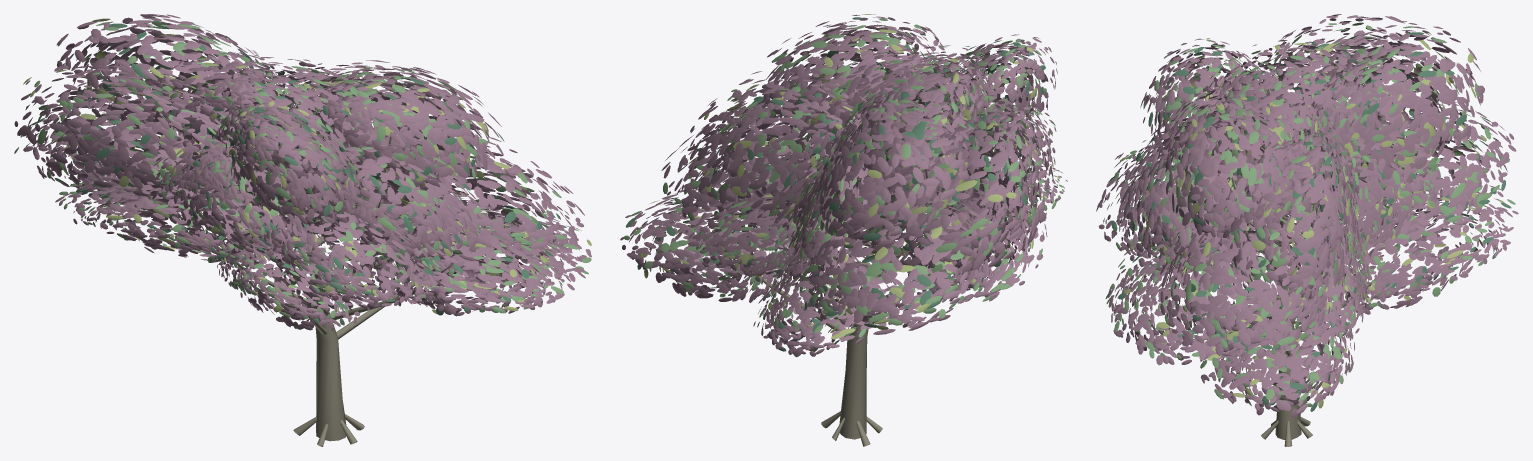
The model's file is grove_2.glb.
The picture shows the model from 3 angles, left to right: view 1: azimuth 30°, elevation 25°; view 2: azimuth 150°, elevation 25°; view 3: azimuth 270°, elevation 25°; orthographic projection. The views are drawn at different scales.
Visible parts, largest first — view 1: study_canopy_2_StudyLeafPurple, study_canopy_2_StudyLeafJade, study_canopy_2_StudyLeafDeep, study_canopy_2_StudyLeafGold, study_canopy_2_StudyBark; view 2: study_canopy_2_StudyLeafPurple, study_canopy_2_StudyLeafJade, study_canopy_2_StudyLeafDeep, study_canopy_2_StudyLeafGold, study_canopy_2_StudyBark; view 3: study_canopy_2_StudyLeafPurple, study_canopy_2_StudyLeafJade, study_canopy_2_StudyLeafDeep, study_canopy_2_StudyLeafGold, study_canopy_2_StudyBark.
Part boxes in pixels (box(x1,y1,x2,y2)): study_canopy_2_StudyLeafPurple: box(14, 14, 591, 331); study_canopy_2_StudyLeafJade: box(14, 21, 591, 328); study_canopy_2_StudyLeafDeep: box(33, 20, 560, 325); study_canopy_2_StudyLeafGold: box(23, 18, 591, 324); study_canopy_2_StudyBark: box(158, 136, 451, 446); study_canopy_2_StudyLeafPurple: box(620, 14, 1067, 356); study_canopy_2_StudyLeafJade: box(624, 18, 1064, 351); study_canopy_2_StudyLeafDeep: box(626, 17, 1057, 357); study_canopy_2_StudyLeafGold: box(639, 14, 1060, 339); study_canopy_2_StudyBark: box(761, 110, 982, 446); study_canopy_2_StudyLeafPurple: box(1096, 14, 1518, 418); study_canopy_2_StudyLeafJade: box(1106, 22, 1515, 407); study_canopy_2_StudyLeafDeep: box(1105, 32, 1511, 411); study_canopy_2_StudyLeafGold: box(1107, 30, 1505, 408); study_canopy_2_StudyBark: box(1210, 108, 1399, 446).
Bounding box in the file's own units: 11.99 × 9.34 × 10.28.
